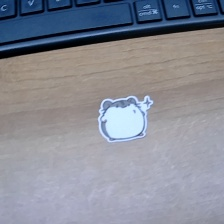mouse: (94, 94, 156, 143)
